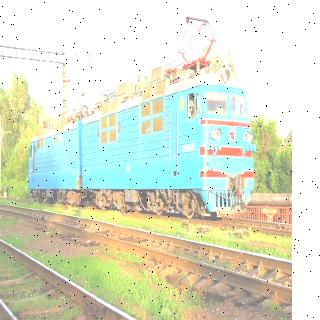poezd: (29, 65, 251, 213)
